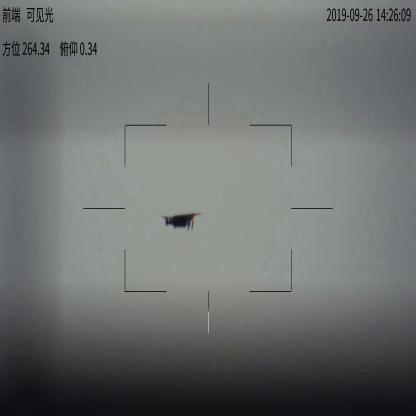uav: (160, 210, 202, 233)
